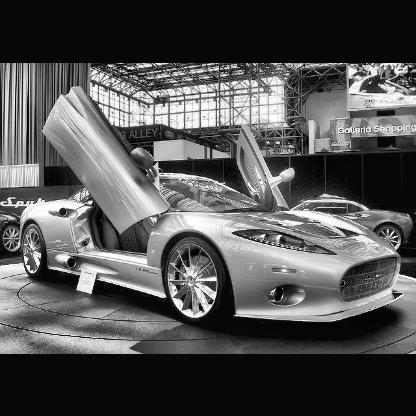Spyker C8 Coupe 2009: (18, 85, 409, 332)
